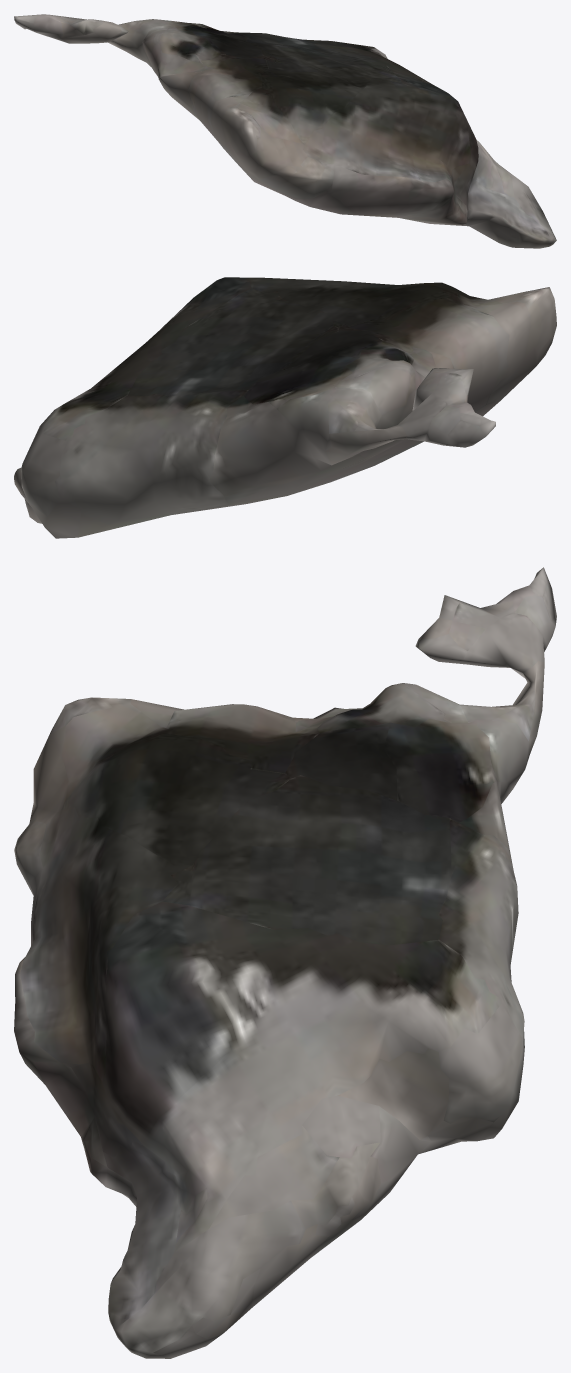
The model's file is hall.glb.
3 renders of one model, top to bottom at view 1: azimuth 30°, elevation 25°; view 2: azimuth 150°, elevation 25°; view 3: azimuth 270°, elevation 25°, orthographic. The views are drawn at different scales.
Size of the model in its own units: 0.2565 by 0.1455 by 0.1613.
1 material, 1 textured.
